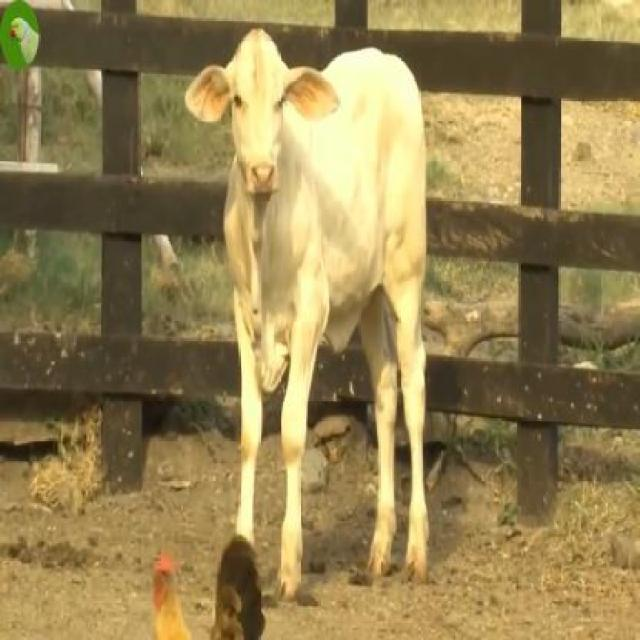Cow: (185, 28, 426, 586)
